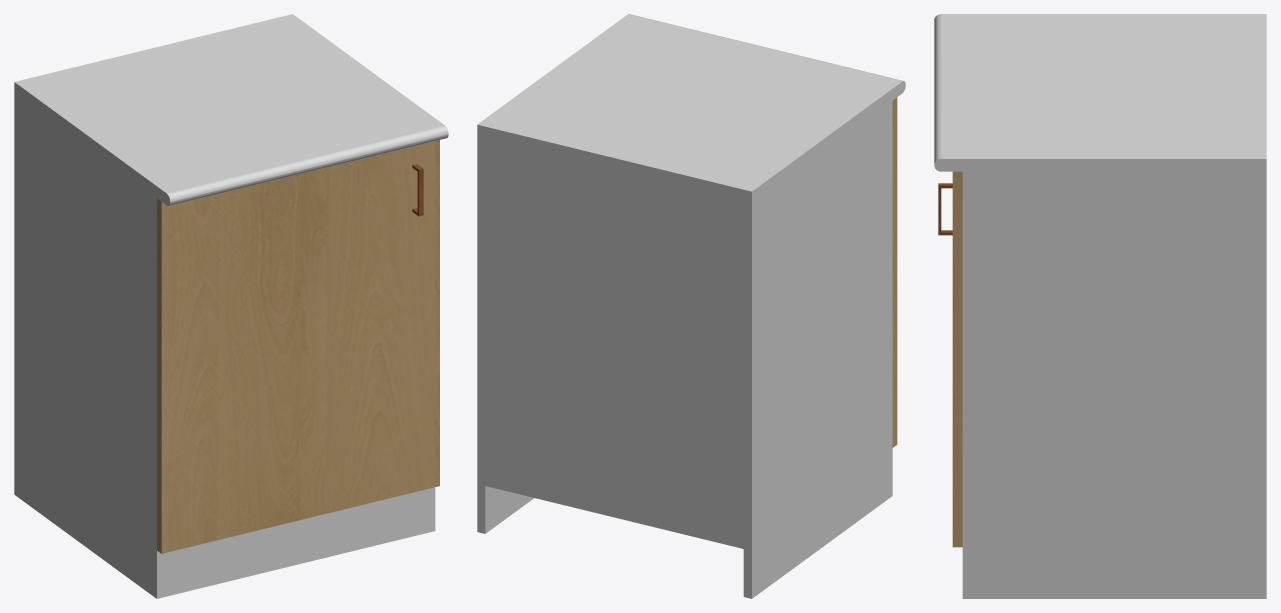
3 views of the same model, side by side, from view 1: azimuth 30°, elevation 25°; view 2: azimuth 150°, elevation 25°; view 3: azimuth 270°, elevation 25° (orthographic). The views are drawn at different scales.
Parts seen in each view (by area): view 1: Mesh_2_group, Mesh_0_group, Mesh_4_group, Mesh_1_group; view 2: Mesh_0_group, Mesh_4_group, Mesh_1_group, Mesh_2_group; view 3: Mesh_0_group, Mesh_4_group, Mesh_1_group, Mesh_2_group.
Boxes of the visible parts, <box> form: Mesh_2_group: <box>157,140,439,553</box>; Mesh_0_group: <box>14,94,156,550</box>; Mesh_4_group: <box>14,14,448,205</box>; Mesh_1_group: <box>14,446,435,598</box>; Mesh_0_group: <box>477,101,892,550</box>; Mesh_4_group: <box>477,14,905,203</box>; Mesh_1_group: <box>477,448,892,598</box>; Mesh_2_group: <box>892,97,897,447</box>; Mesh_0_group: <box>962,171,1266,547</box>; Mesh_4_group: <box>934,14,1266,171</box>; Mesh_1_group: <box>962,547,1266,598</box>; Mesh_2_group: <box>952,171,962,547</box>.
Size of the model in its own units: 0.6 by 0.85 by 0.582.
3 materials, 2 textured.
